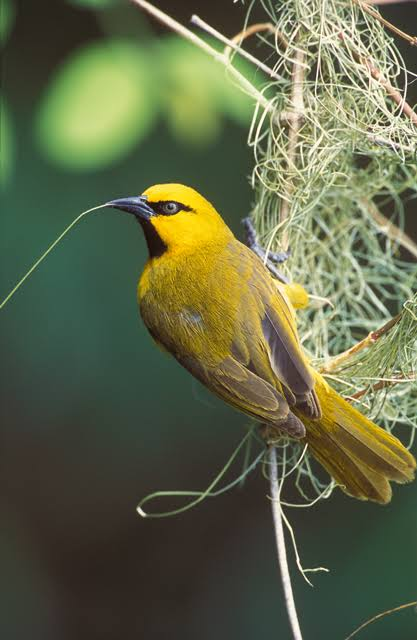target: (94, 177, 416, 510)
